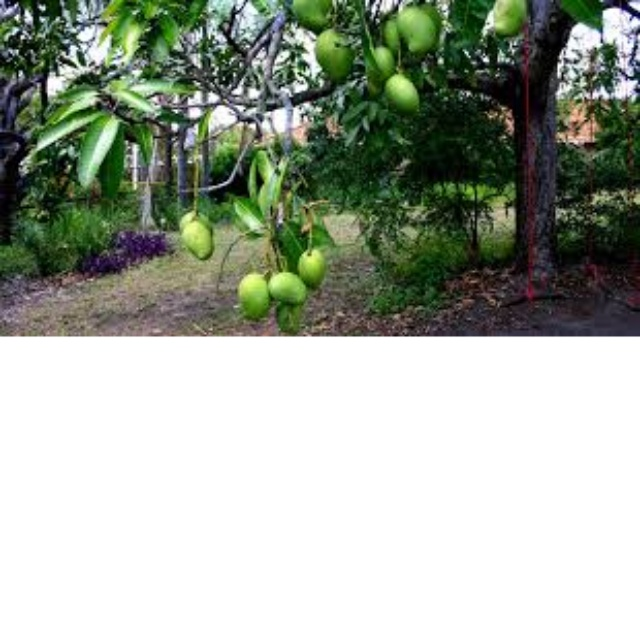thanh_long: (181, 219, 220, 263), (270, 272, 310, 308), (239, 273, 268, 320), (388, 74, 420, 116), (299, 250, 332, 288)
